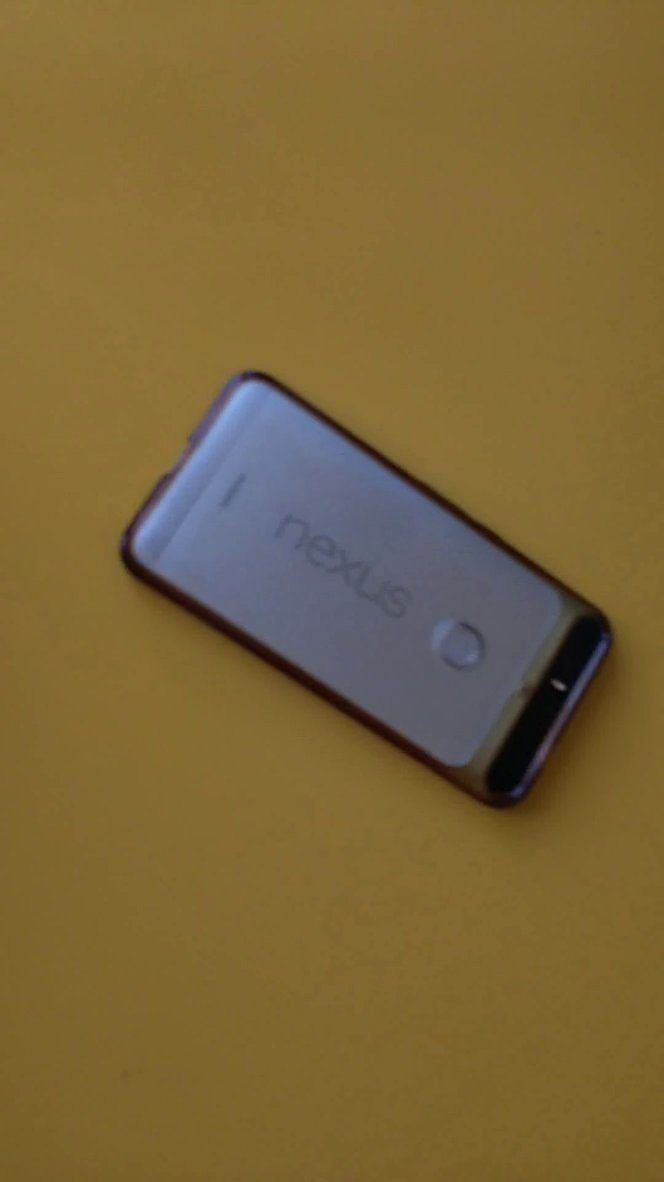phone: (110, 357, 632, 828)
